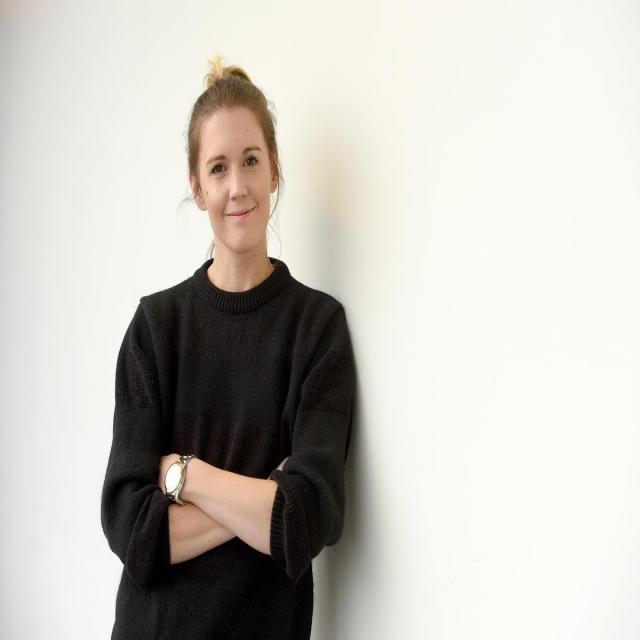human: (96, 56, 363, 640)
